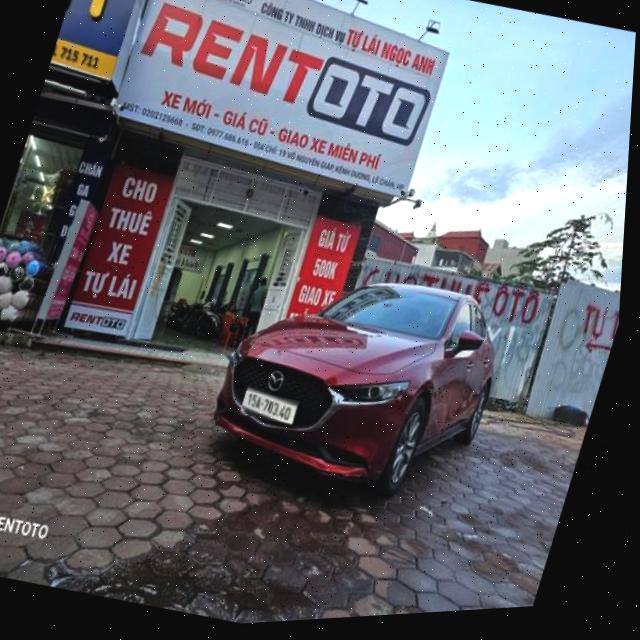car: (185, 235, 529, 529)
plate: (234, 380, 305, 432)
